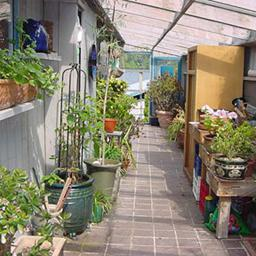Armario: (183, 47, 197, 178)
Matera: (42, 111, 100, 234), (86, 40, 122, 198), (209, 116, 252, 178), (5, 33, 38, 109), (149, 73, 176, 125), (100, 89, 122, 132), (168, 109, 189, 149)
